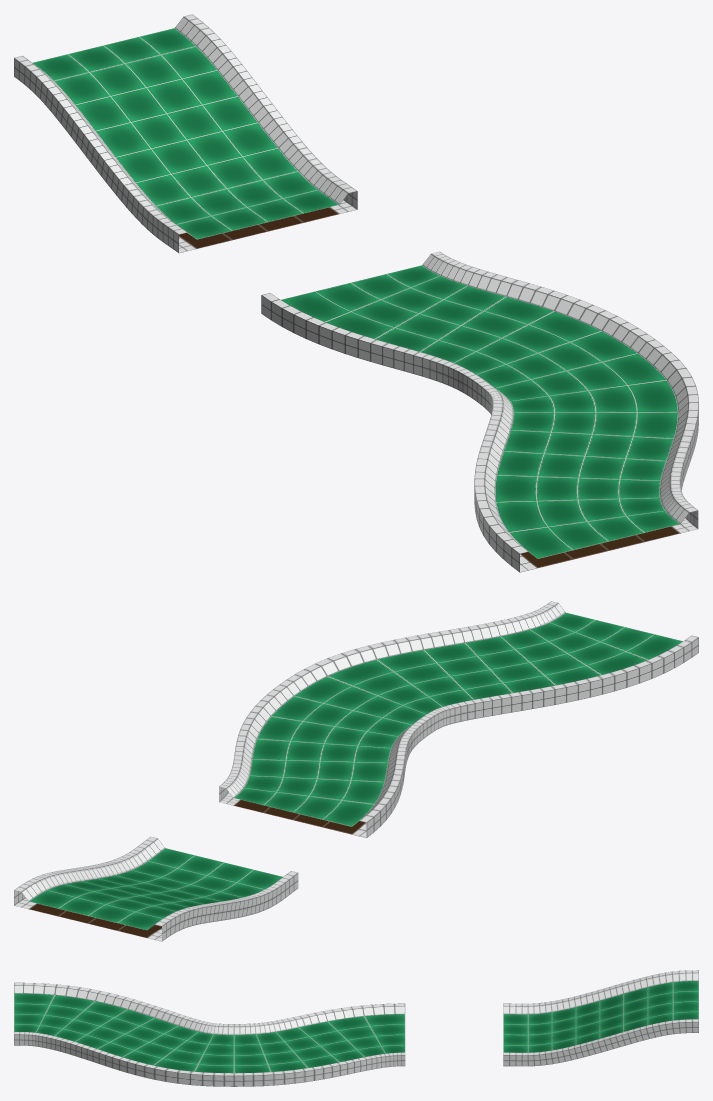
Rendered from GetMovingCurves.obj.
The picture shows the model from 3 angles, top to bottom: view 1: azimuth 30°, elevation 25°; view 2: azimuth 150°, elevation 25°; view 3: azimuth 270°, elevation 25°; orthographic projection. The views are drawn at different scales.
Visible parts, largest first — view 1: Cube.003_Cube.005, Cube.001_Cube.003, Cube.002_Cube.004; view 2: Cube.001_Cube.003, Cube.002_Cube.004, Cube.003_Cube.005; view 3: Cube.001_Cube.003, Cube.003_Cube.005, Cube.002_Cube.004.
Part boxes in pixels (box(x1,y1,x2,y2)): Cube.003_Cube.005: box(14, 14, 357, 253); Cube.001_Cube.003: box(474, 339, 698, 572); Cube.002_Cube.004: box(261, 251, 655, 401); Cube.001_Cube.003: box(279, 601, 698, 735); Cube.002_Cube.004: box(219, 685, 426, 837); Cube.003_Cube.005: box(14, 836, 298, 941); Cube.001_Cube.003: box(14, 982, 234, 1086); Cube.003_Cube.005: box(503, 970, 698, 1066); Cube.002_Cube.004: box(234, 1003, 405, 1086).
Size of the model in its own units: 18 by 4.03 by 56.
